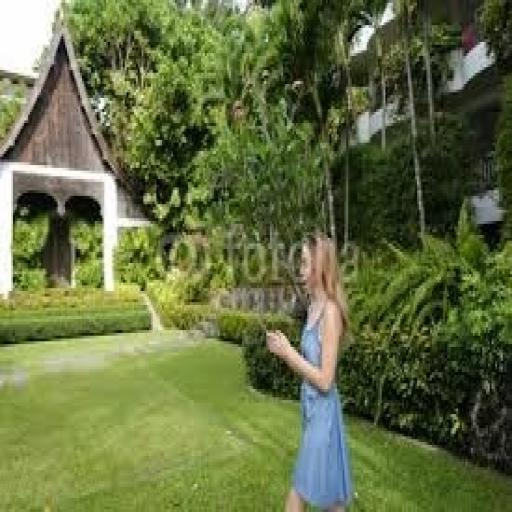texting: (262, 227, 358, 509)
